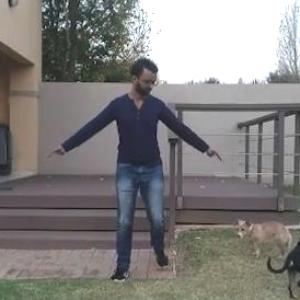land: (28, 59, 214, 285)
